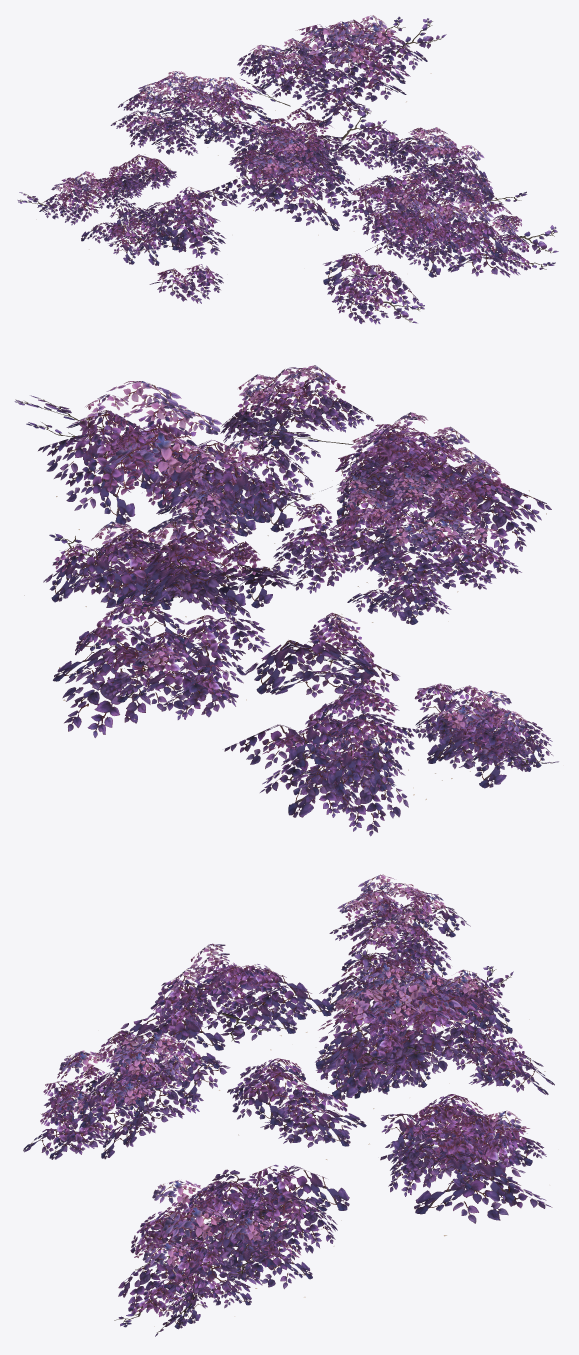
The model's file is Yland2_sy_01 Yland2.FBX.
The picture shows the model from 3 angles, top to bottom: view 1: azimuth 30°, elevation 25°; view 2: azimuth 150°, elevation 25°; view 3: azimuth 270°, elevation 25°; orthographic projection. The views are drawn at different scales.
Parts seen in each view (by area): view 1: Yland2_sy_01 Yland2; view 2: Yland2_sy_01 Yland2; view 3: Yland2_sy_01 Yland2.
Part boxes in pixels (bbox=[...]): Yland2_sy_01 Yland2: bbox=[17, 15, 558, 324]; Yland2_sy_01 Yland2: bbox=[14, 365, 558, 836]; Yland2_sy_01 Yland2: bbox=[23, 874, 554, 1336].
Size of the model in its own units: 62.22 by 31.77 by 50.
